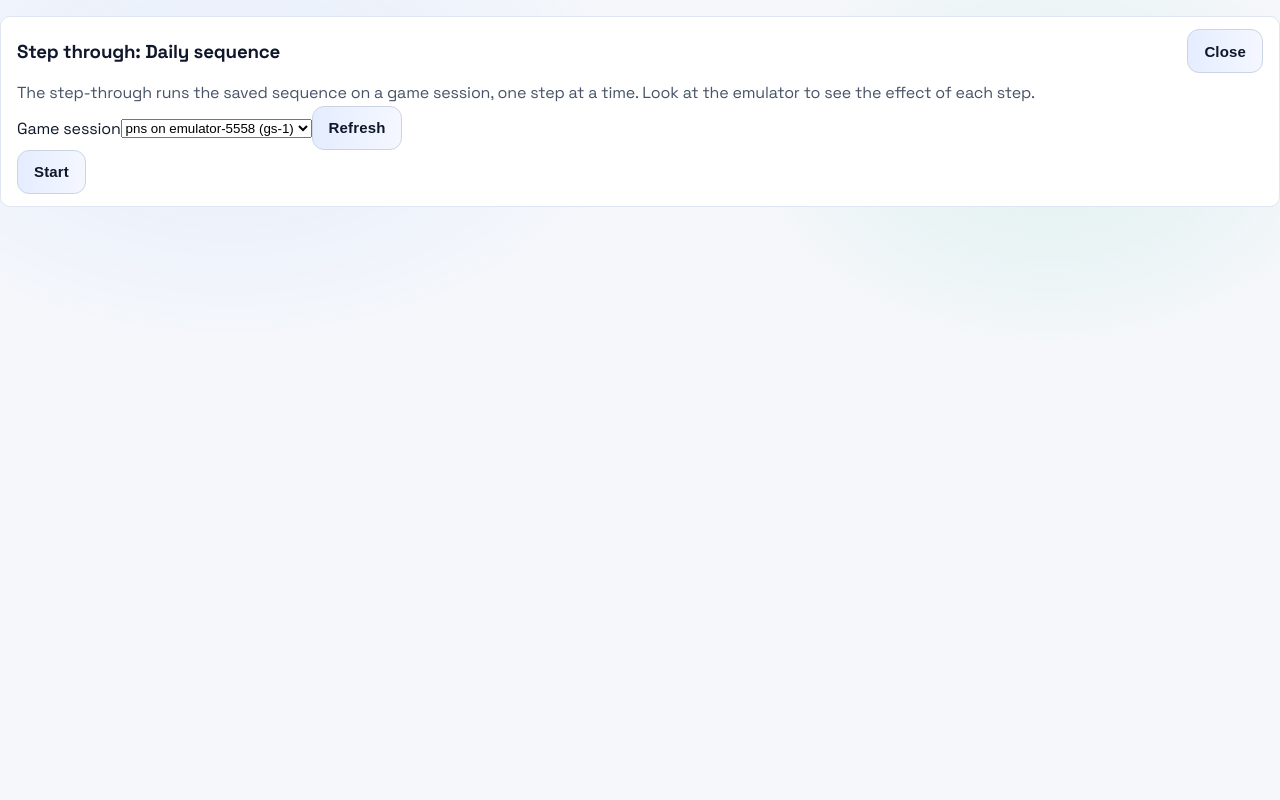
Scenario: StepThroughPanel history, restart, values, and queue › shows each history entry with status, iteration, message, effects, and notes
Step 1. Click the button "Start" → (51, 172), box x1=17 y1=150 x2=86 y2=194
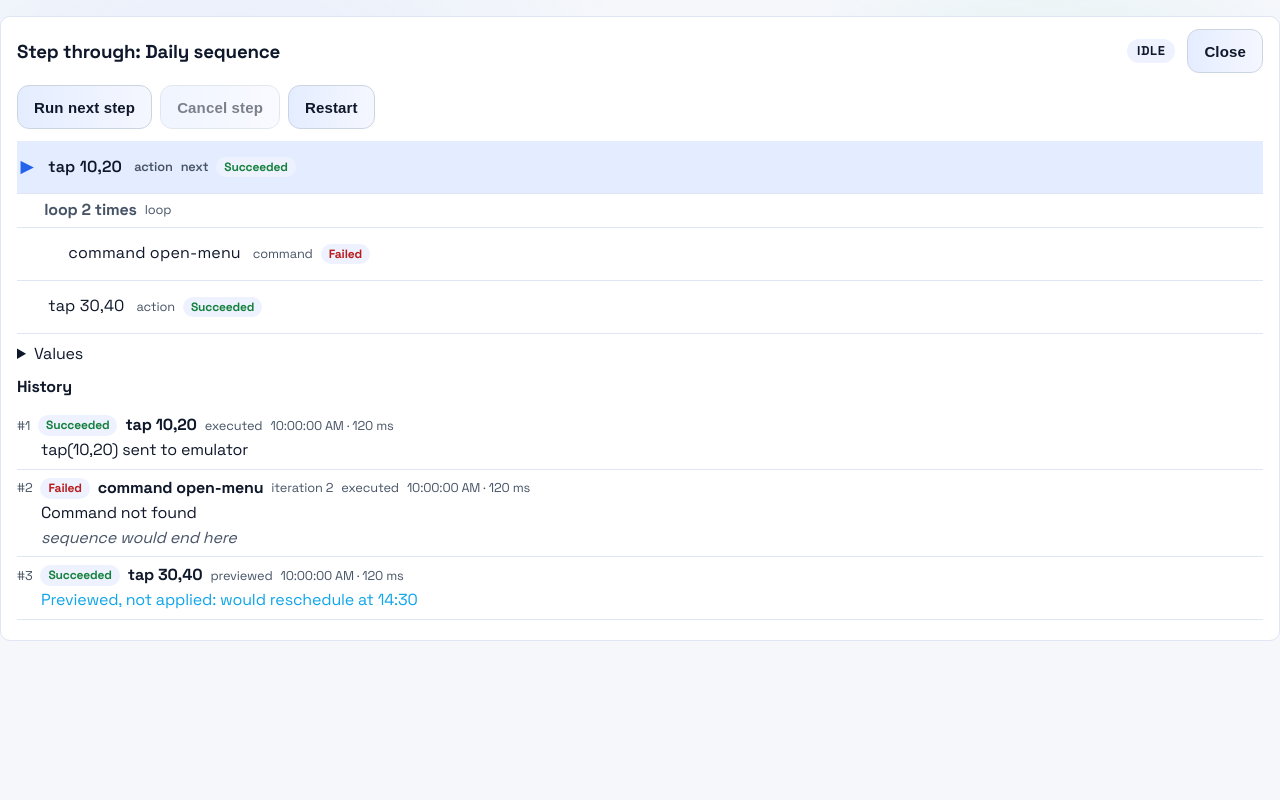
Check: the list named "Steps" is shown, box x1=17 y1=141 x2=1263 y2=334
Check: the 3rd text "Succeeded" is shown, box x1=38 y1=416 x2=118 y2=436
Check: the text "Failed" in the row of "iteration" is shown, box x1=48 y1=480 x2=82 y2=496
